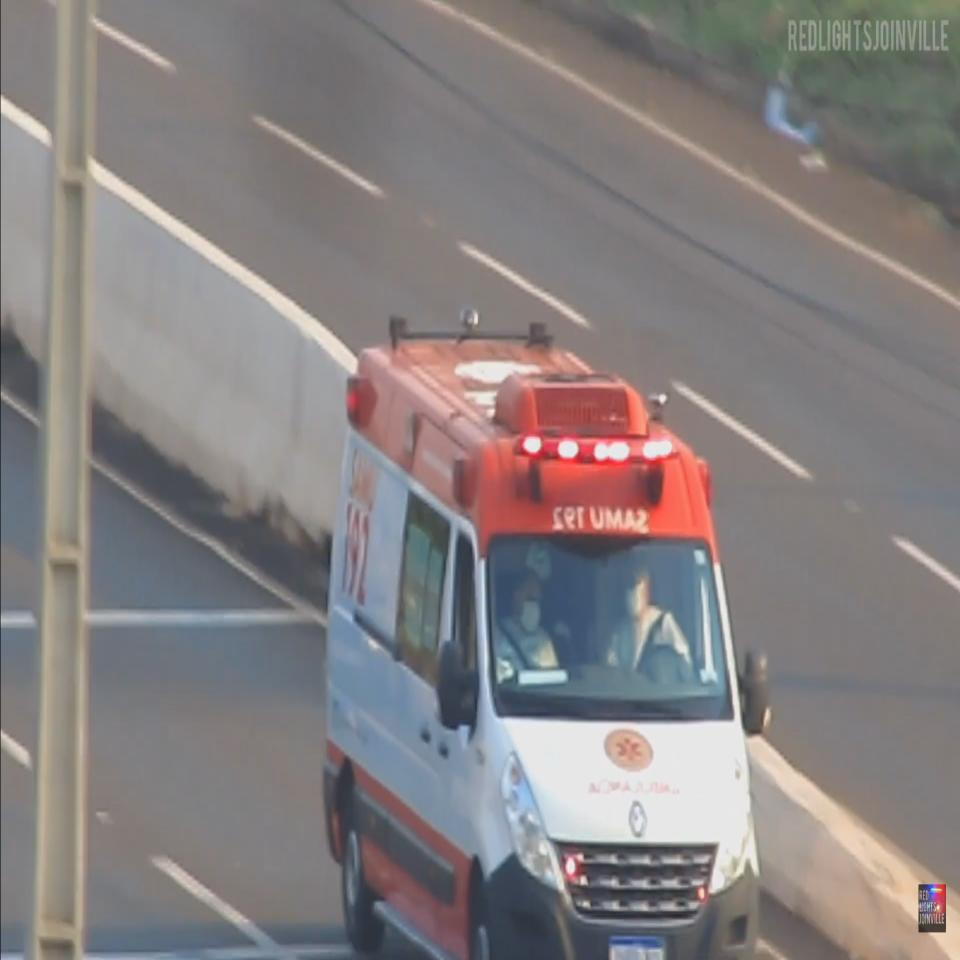bombeiro: (319, 306, 770, 960)
